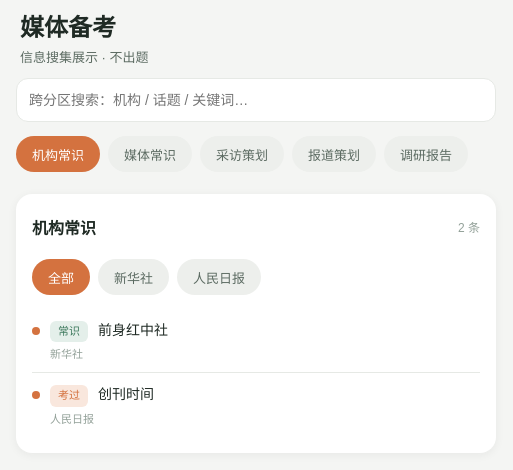
MediaView 媒体备考 › 分区切换：媒体常识 / 采访策划 / 报道策划 / 调研报告
分区 chips 为前 5 个（机构常识分区内还有机构筛选 chips，但默认分区不是它时不渲染）
Click the button with class "chip" showing "媒体常识": x=150, y=154 [108,136,192,172]
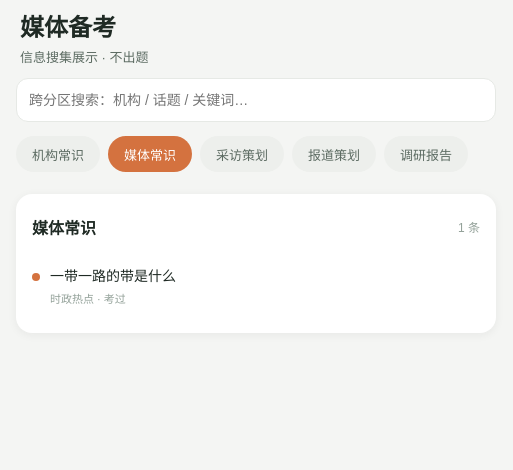
Expected: the text "一带一路的带是什么" is shown, [50,268,176,284]
Expected: the text "前身红中社" is gone
Click the button with class "chip" showing "采访策划": x=242, y=154 [200,136,284,172]
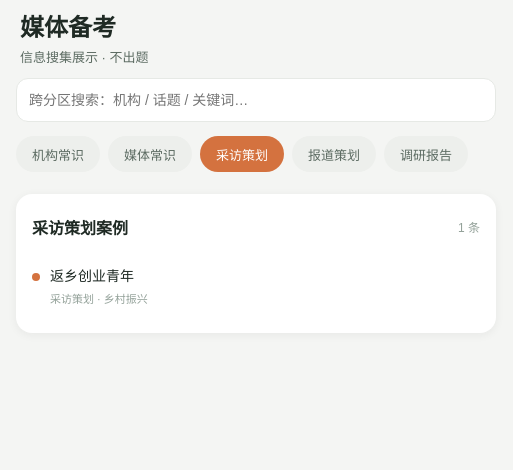
Expected: the text "跟着文物游中原" is not shown
Expected: the text "返乡创业青年" is shown, [50,268,134,284]
Click the button with class "chip" showing "报道策划": x=334, y=154 [292,136,376,172]
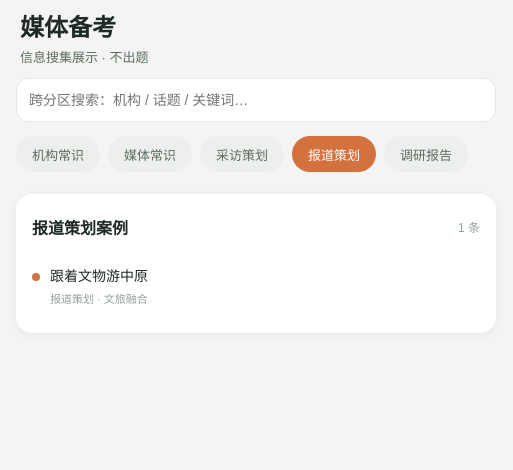
Expected: the text "跟着文物游中原" is shown, [50,268,148,284]
Click the button with class "chip" showing "调研报告": x=426, y=154 [384,136,468,172]
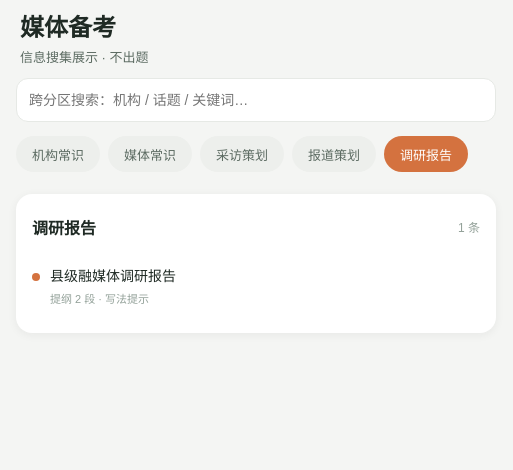
Expected: the text "县级融媒体调研报告" is shown, [50,268,176,284]
